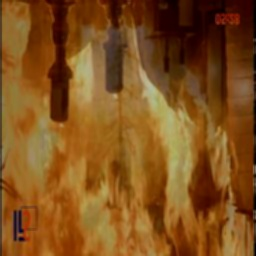fire: (2, 37, 251, 256)
